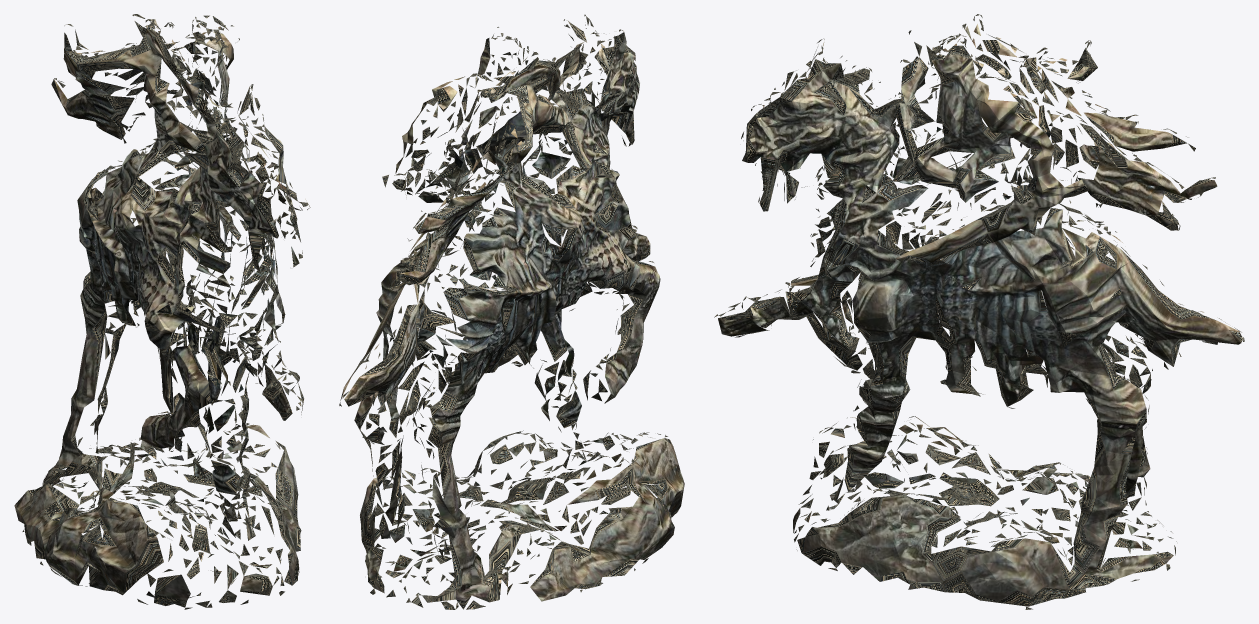
The model's file is knight_errant.glb.
3 views of the same model, side by side, from view 1: azimuth 30°, elevation 25°; view 2: azimuth 150°, elevation 25°; view 3: azimuth 270°, elevation 25° (orthographic). The views are drawn at different scales.
Parts seen in each view (by area): view 1: geometry_0; view 2: geometry_0; view 3: geometry_0.
Part boxes in pixels (x1=…): geometry_0: x1=14, y1=14, x2=310, y2=609; geometry_0: x1=339, y1=14, x2=684, y2=609; geometry_0: x1=714, y1=14, x2=1244, y2=609.
Bounding box in the file's own units: 0.0185 × 0.0333 × 0.031.
Materials: 1 (1 with a texture image).
